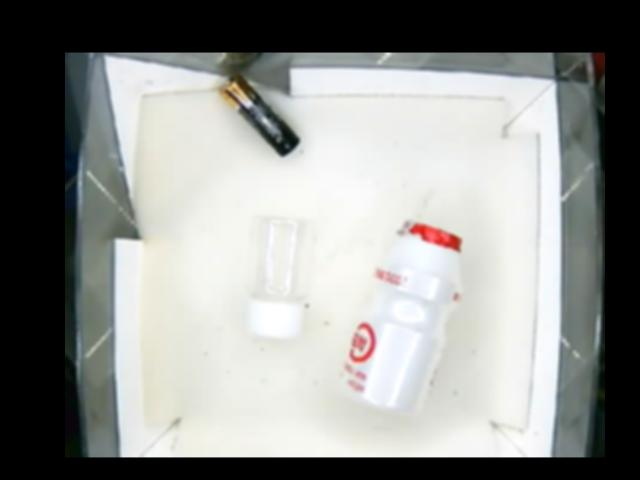Battery: (220, 77, 304, 157)
Bottle: (337, 218, 465, 415), (245, 212, 314, 341)
